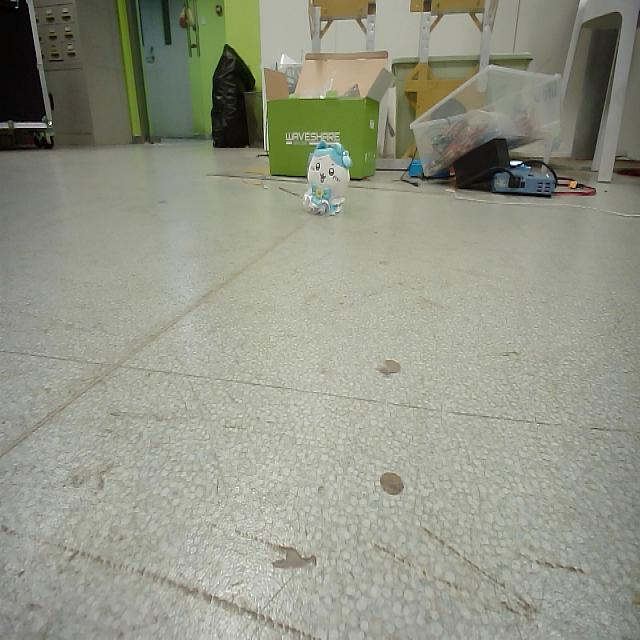xiaoba: (302, 140, 351, 220)
